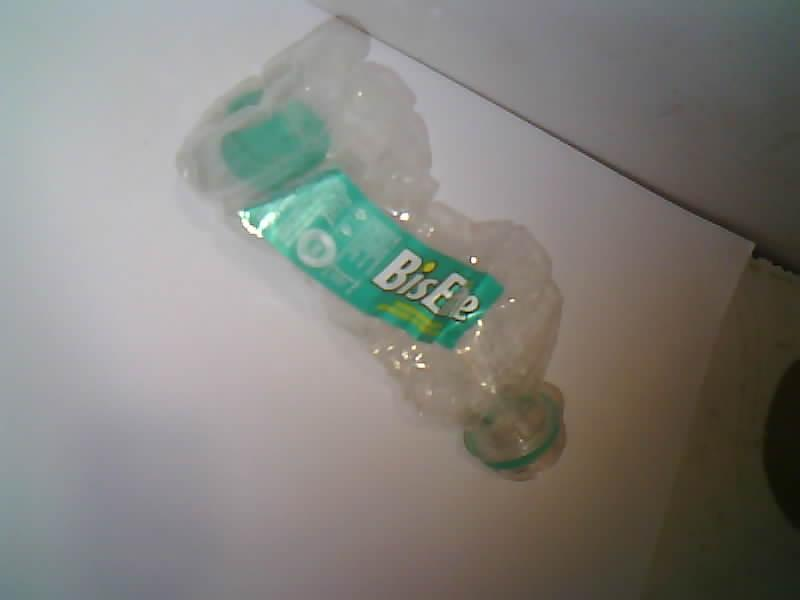non-biodegradable: (178, 19, 563, 479)
